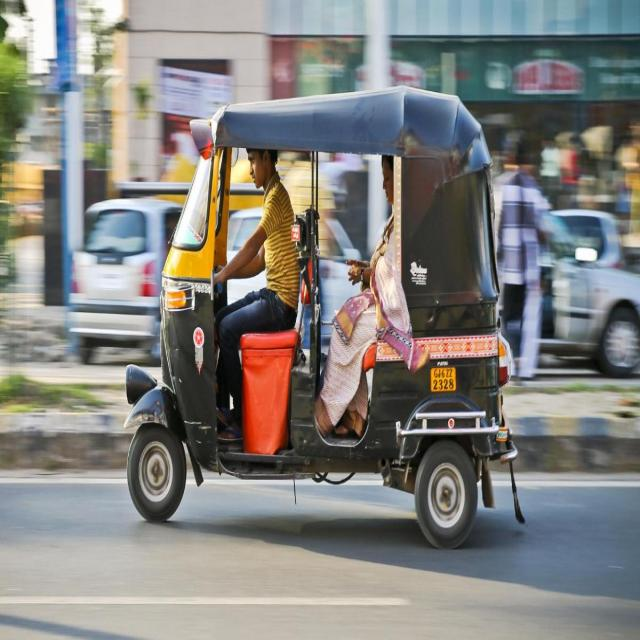autorikshaw: (124, 84, 519, 540)
